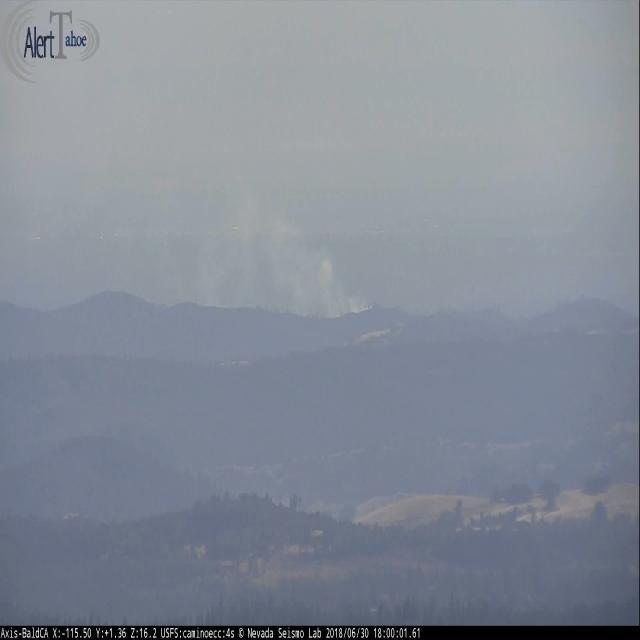smoke: (232, 195, 371, 311)
